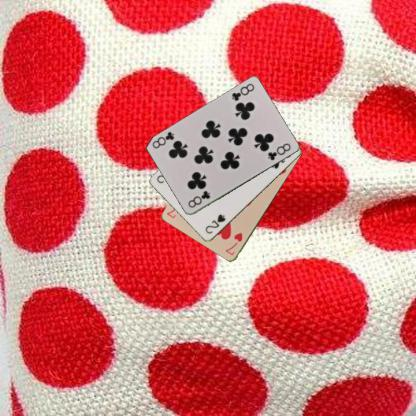2s: (203, 212, 226, 235)
7h: (223, 230, 244, 257)
8c: (186, 188, 212, 210), (229, 81, 255, 102)
